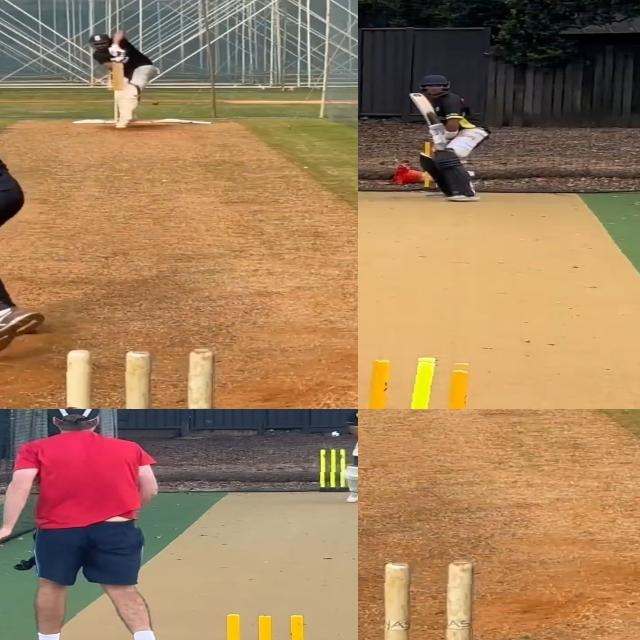Cricket ball: (330, 430, 342, 437), (152, 102, 159, 105)
Stumps: (358, 560, 474, 640), (65, 349, 214, 409), (358, 356, 487, 409), (319, 449, 348, 492)
